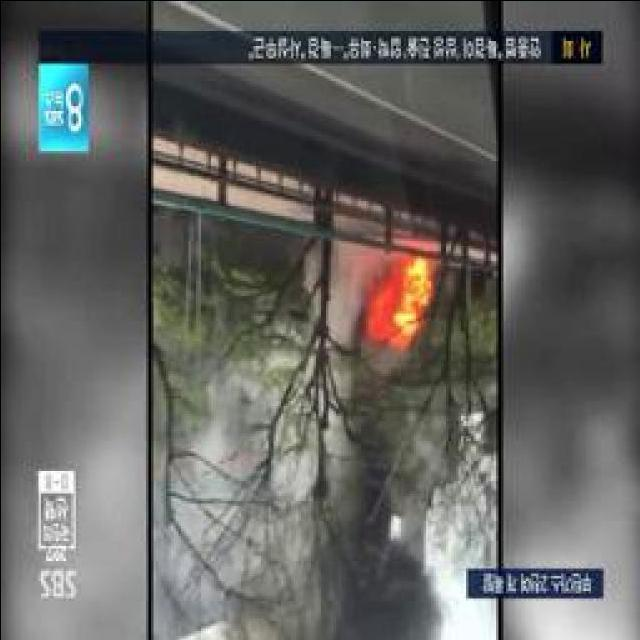Fire: (362, 246, 438, 351)
